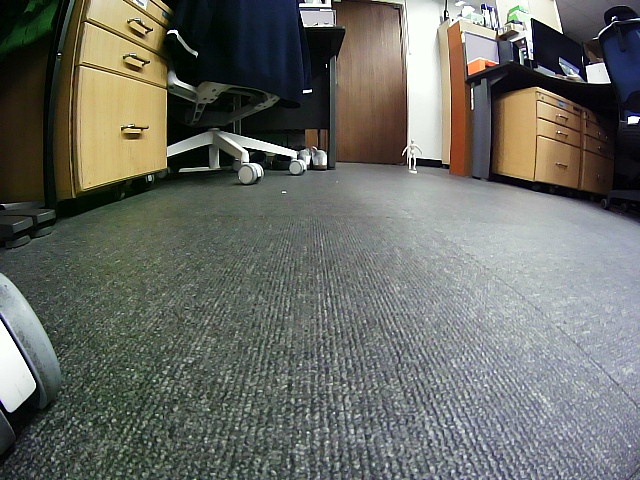person: (402, 139, 422, 169)
